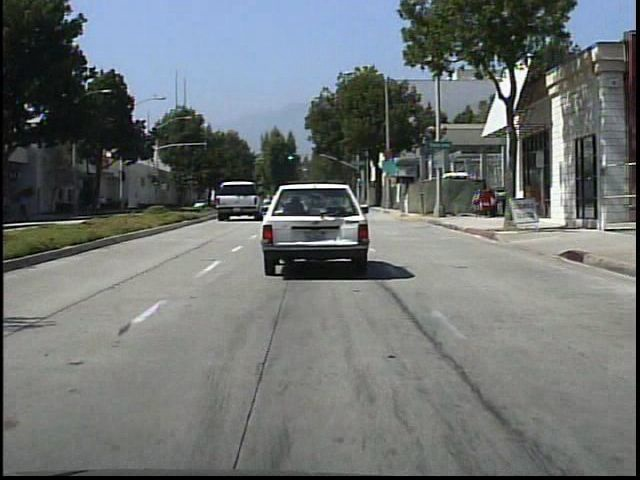person: (18, 195, 37, 226)
